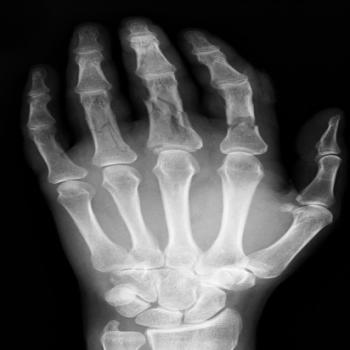Fracture: (136, 93, 197, 138), (89, 104, 131, 154), (207, 113, 277, 134)
